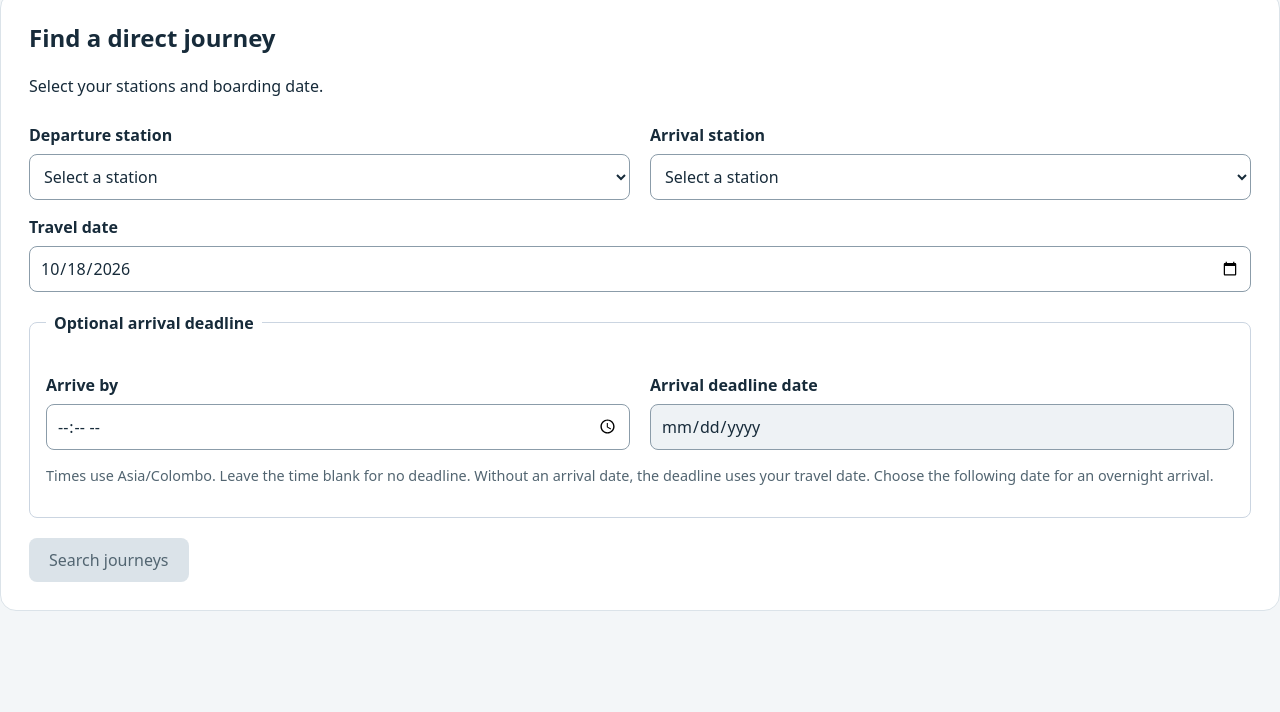
Journey search › submits the selected journey and displays its result
The image size is (1280, 712).
Select "Colombo Fort" in the dropdown labelled "Departure station" at (330, 176), box [29, 154, 630, 200]
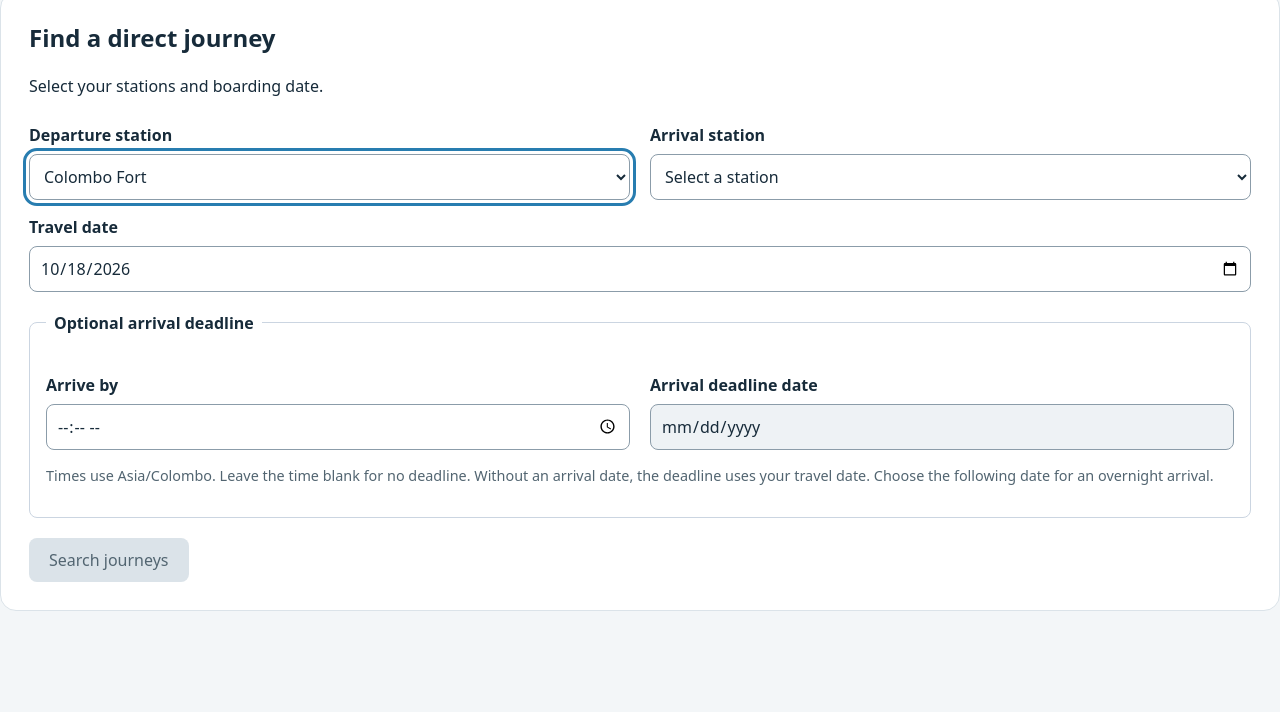
Select "Jaffna" in the dropdown labelled "Arrival station" at (950, 176), box [650, 154, 1251, 200]
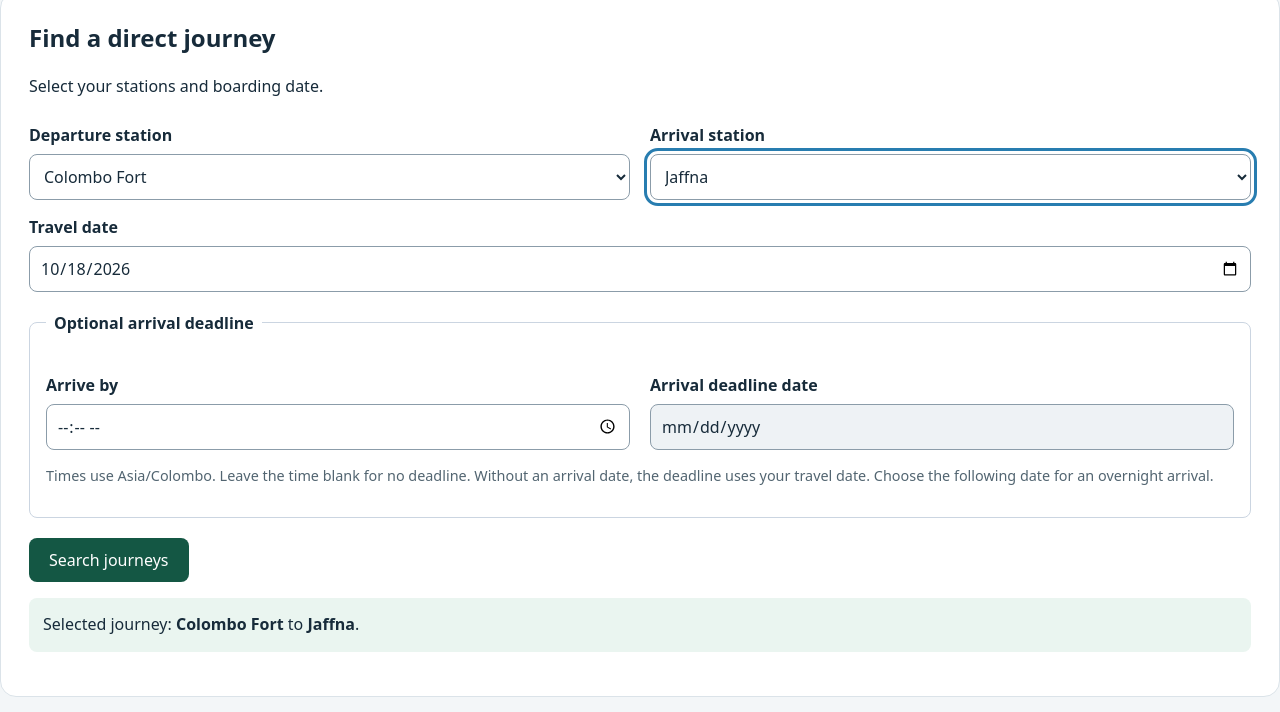
Type "2026-10-12" into the date field labelled "Travel date" at (640, 268), box [29, 246, 1251, 292]
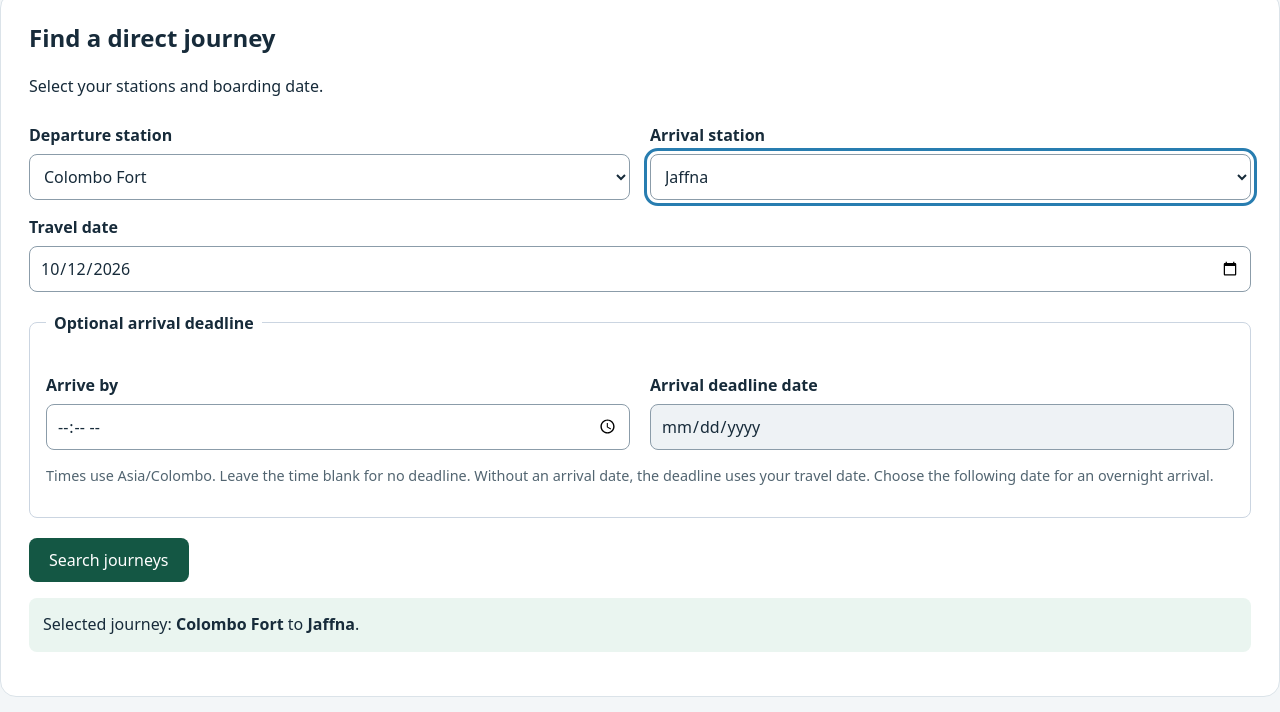
Click the button "Search journeys" at (109, 560), box [29, 538, 188, 582]
(page scrolled)
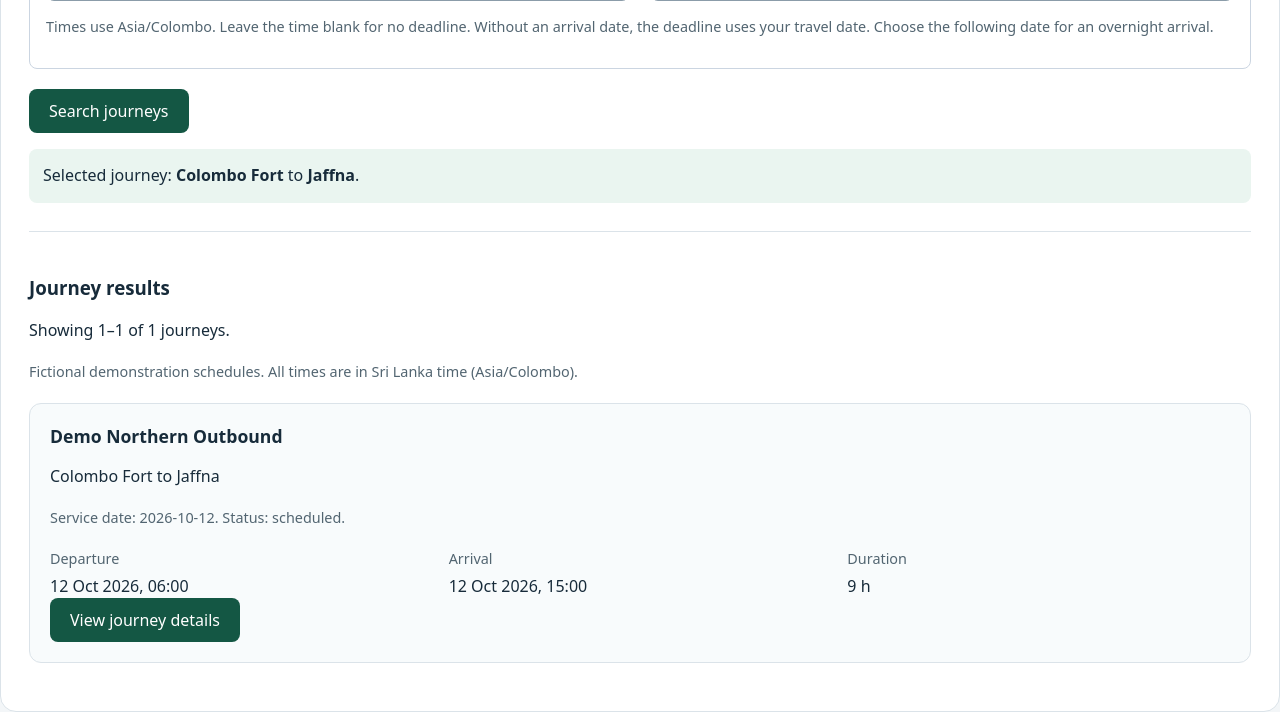
Now the heading "Demo Northern Outbound" is shown, box [50, 424, 282, 448]
Now the text "9 h" is shown, box [847, 575, 870, 597]
Now the text "Fictional demonstration schedules" is shown, box [29, 362, 578, 381]
